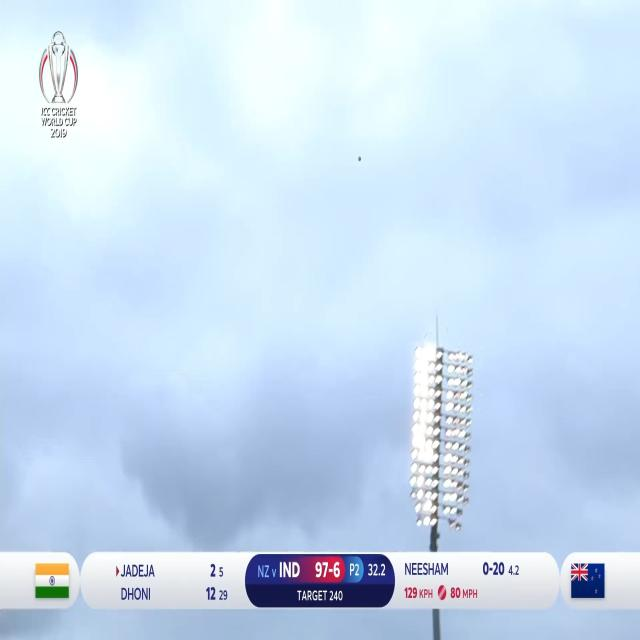ball: (353, 150, 366, 168)
